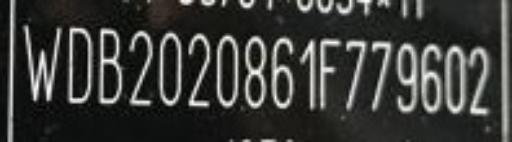letter: (20, 23, 64, 104), (64, 25, 96, 104), (124, 26, 154, 106), (268, 36, 300, 108), (96, 28, 126, 104), (184, 30, 214, 106), (157, 31, 185, 109), (214, 33, 242, 109), (240, 33, 268, 109), (315, 35, 343, 111), (393, 40, 421, 113), (442, 40, 470, 113), (465, 43, 493, 116), (418, 40, 444, 113), (368, 38, 392, 114), (344, 38, 368, 111), (297, 38, 317, 111)
